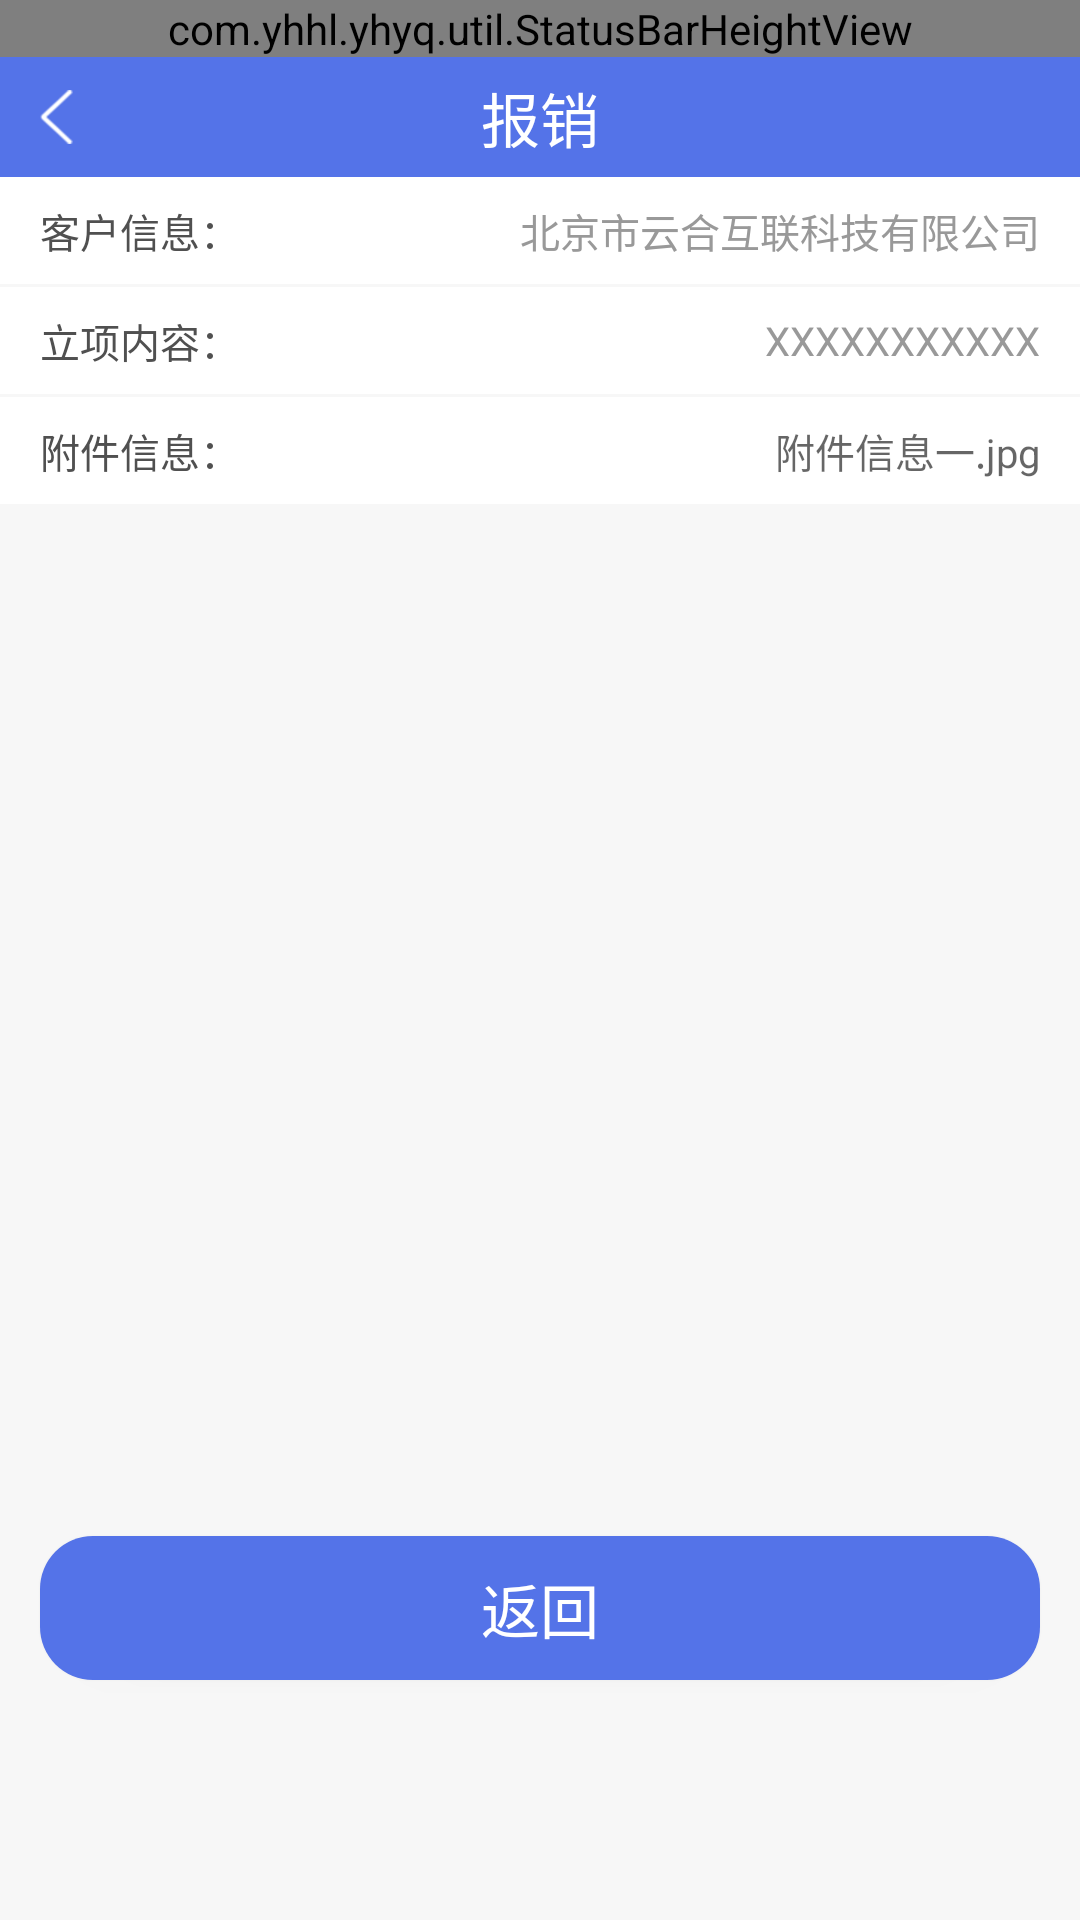

Icons on this 1080 × 1920 Android screen, each with the point to tap as (x=x, y=y):
back: (x=56, y=117)
